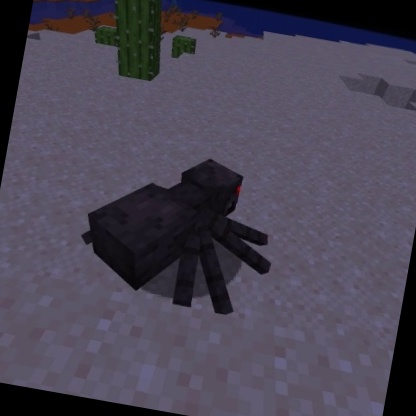spider: (67, 135, 292, 323)
